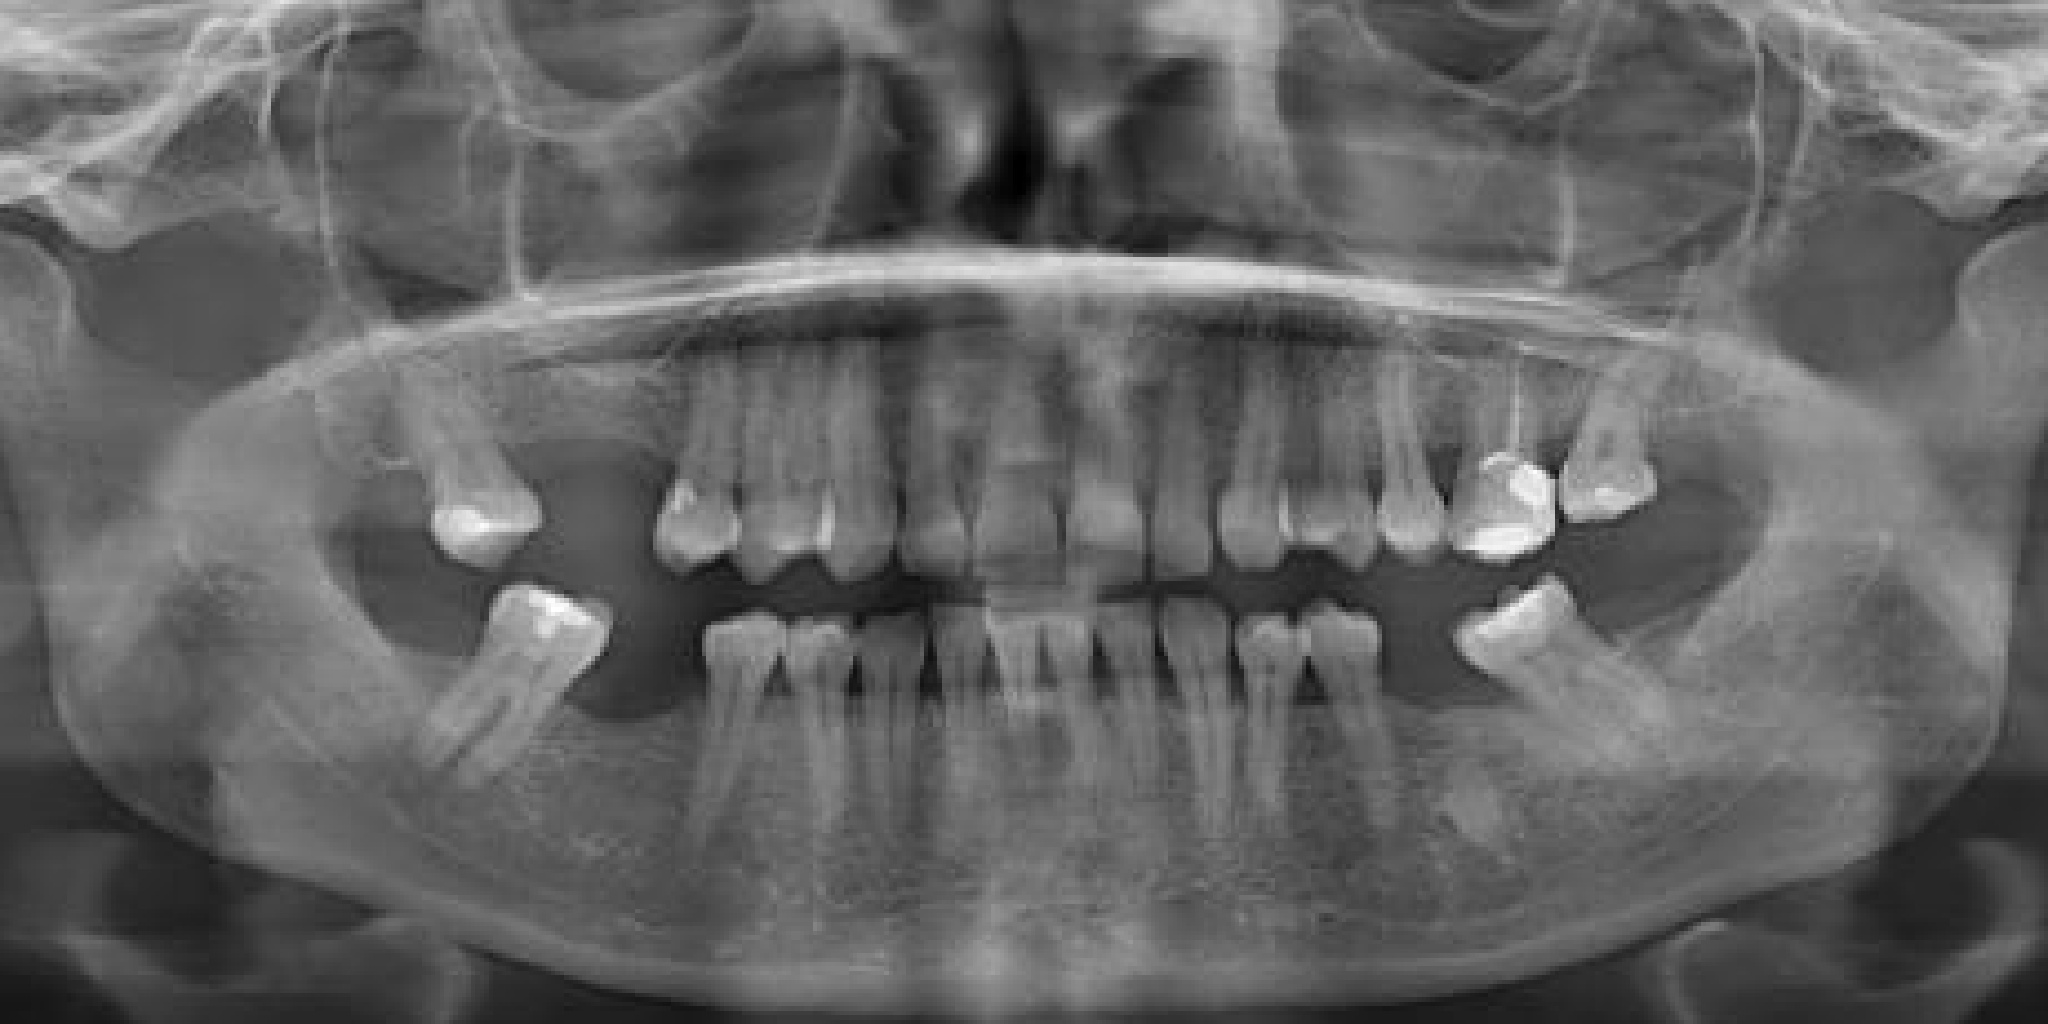Tooth: (1432, 534, 1694, 814), (622, 580, 808, 874), (707, 308, 859, 597), (639, 323, 778, 590), (1263, 333, 1408, 579), (1192, 298, 1300, 584), (768, 610, 862, 887), (1085, 585, 1179, 828), (1050, 357, 1143, 590), (910, 590, 994, 839), (1143, 347, 1226, 586), (980, 589, 1059, 805), (1038, 590, 1112, 793)
